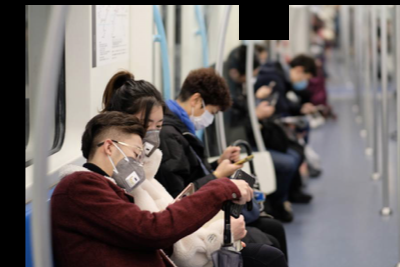with_mask: (114, 144, 146, 192), (140, 117, 164, 159), (190, 107, 220, 131), (295, 74, 313, 91)
